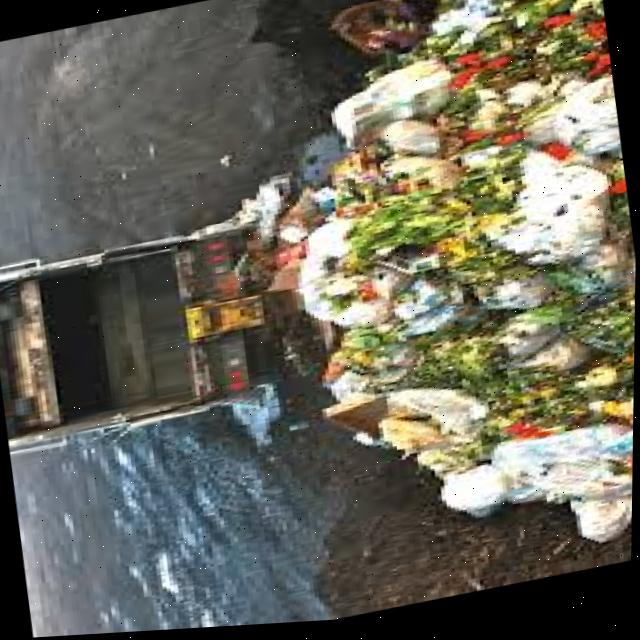Wet: (204, 0, 640, 630), (310, 36, 639, 492)
